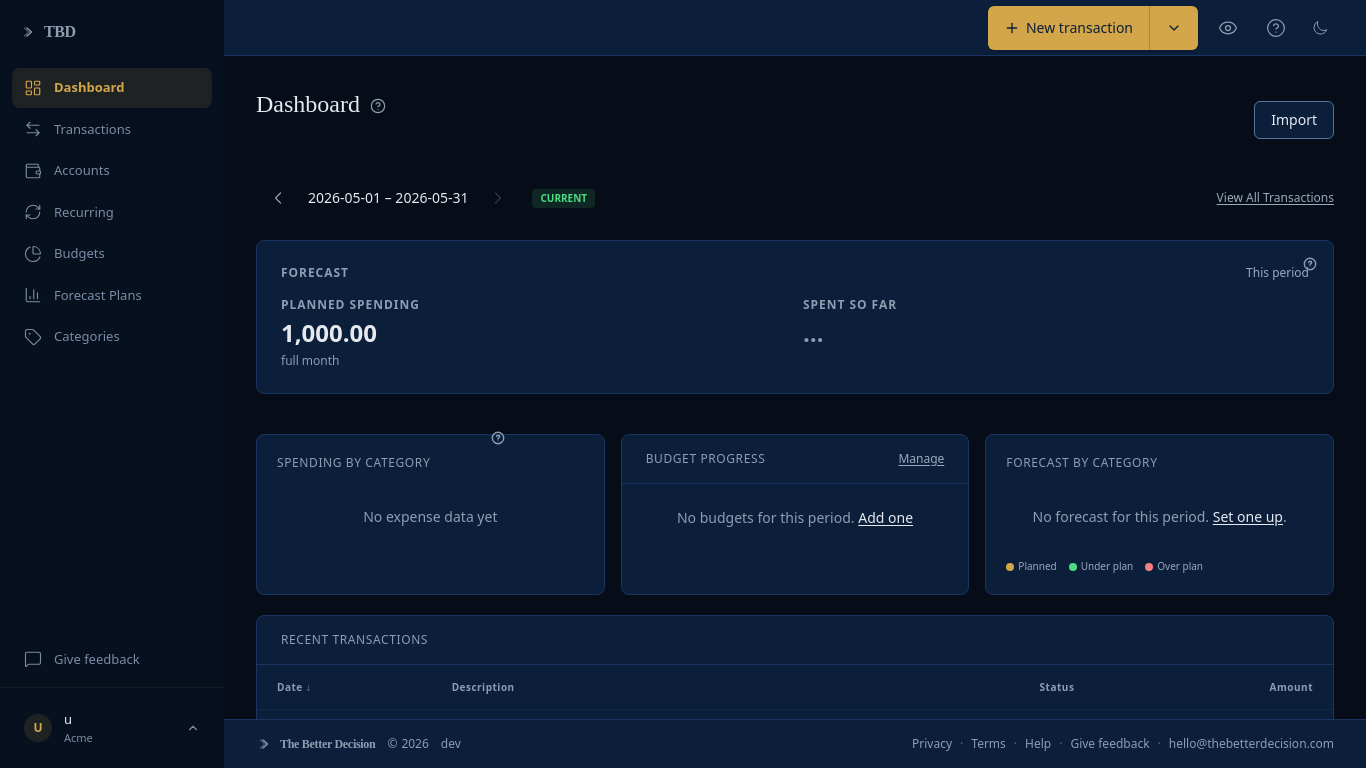
DashboardPage — projection race protection › ignores a stale projection response after the period has changed
The width and height of the screenshot is (1366, 768).
Expected: the element with test id "on-track-tile" is shown, 256,240 -> 1334,394
Click the button named "previous period" at {"x": 278, "y": 198}, box 256,176 -> 300,220
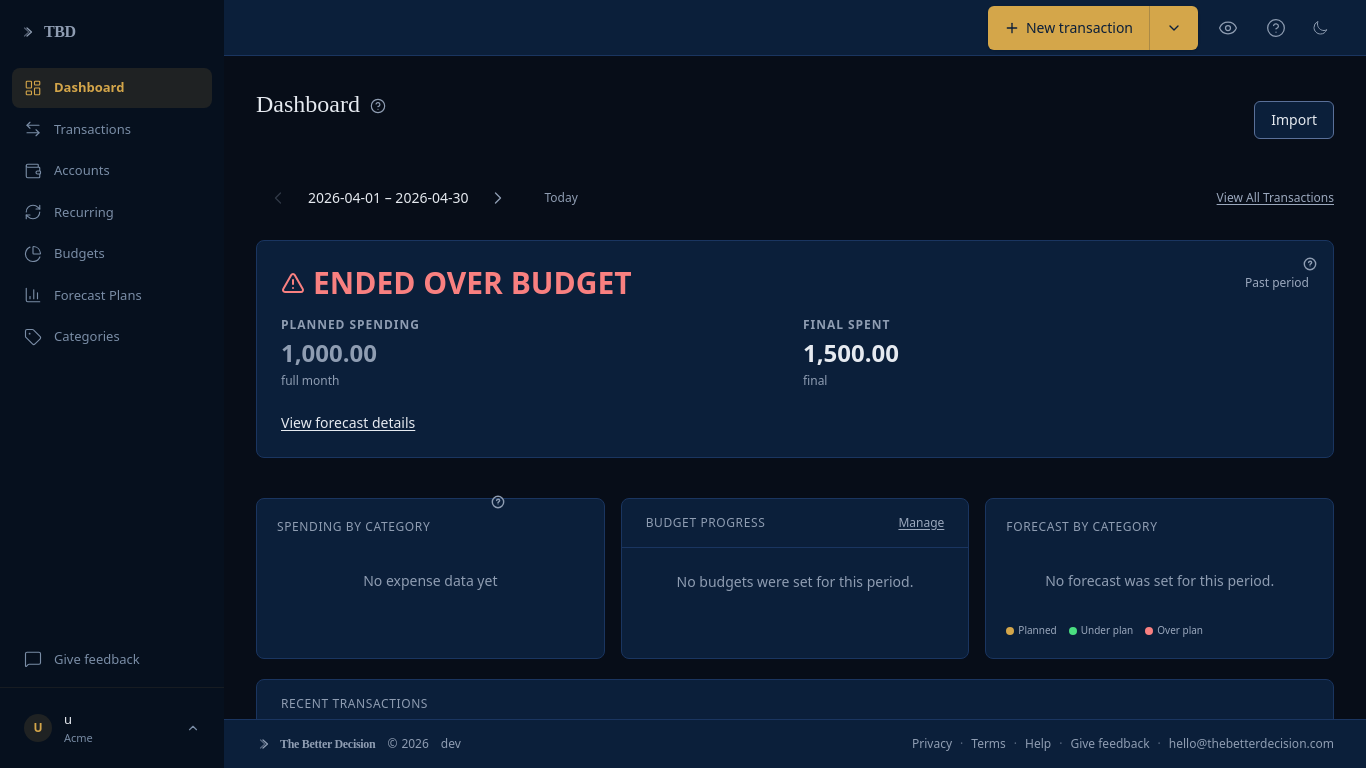
Expected: the text "ENDED OVER BUDGET" is shown, 313,265 -> 632,301
